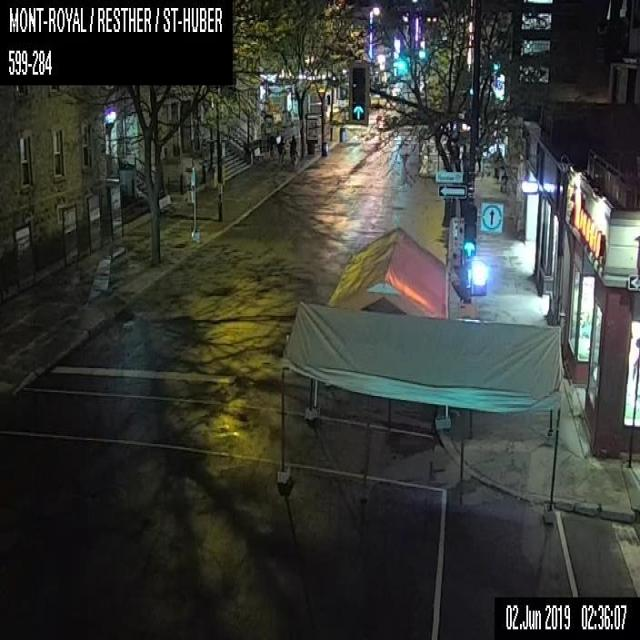pedestrian: (288, 134, 297, 169), (276, 133, 286, 162), (499, 168, 508, 192)
